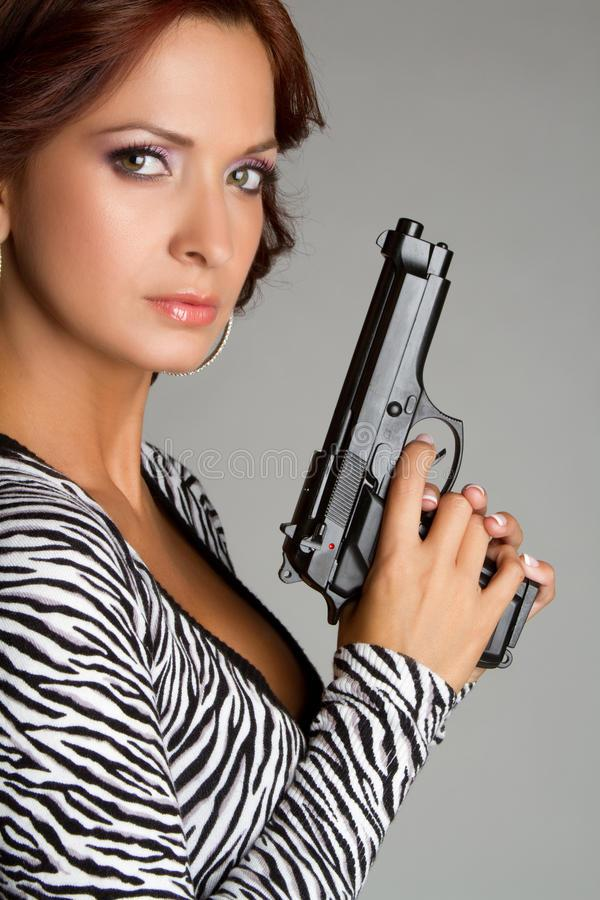criminal: (0, 0, 546, 900)
weapon: (275, 210, 544, 676)
